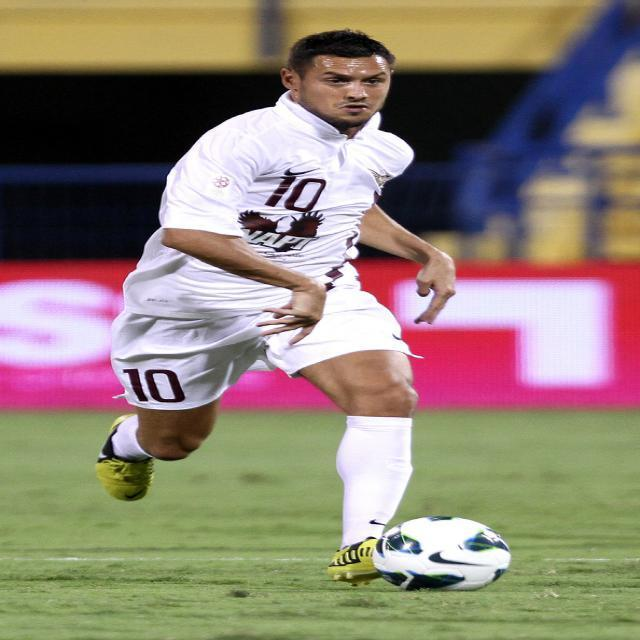football: (378, 504, 523, 600)
